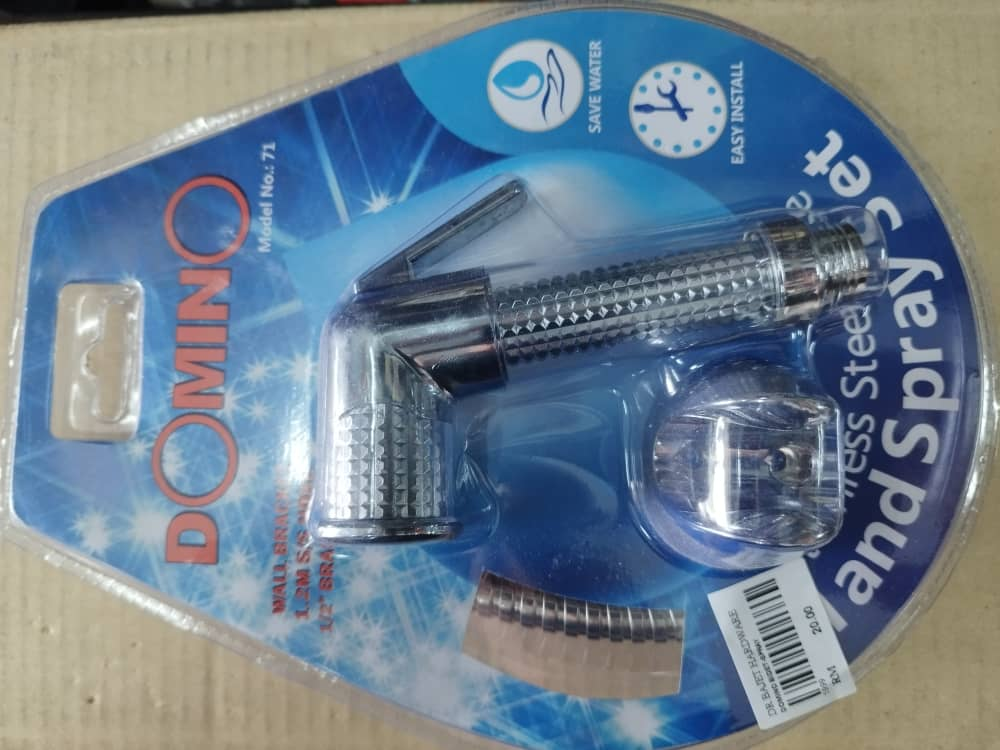sku_ss304_bidet_head: (289, 181, 914, 677)
